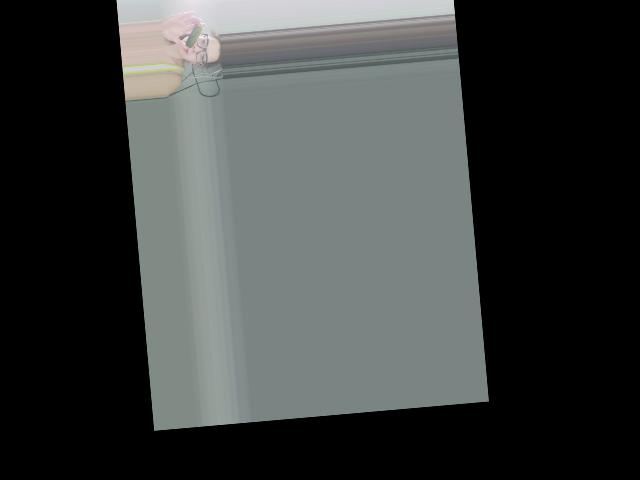cucumber: (184, 24, 204, 48)
